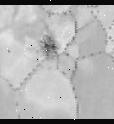good_void: (38, 34, 58, 59), (6, 49, 11, 54)
